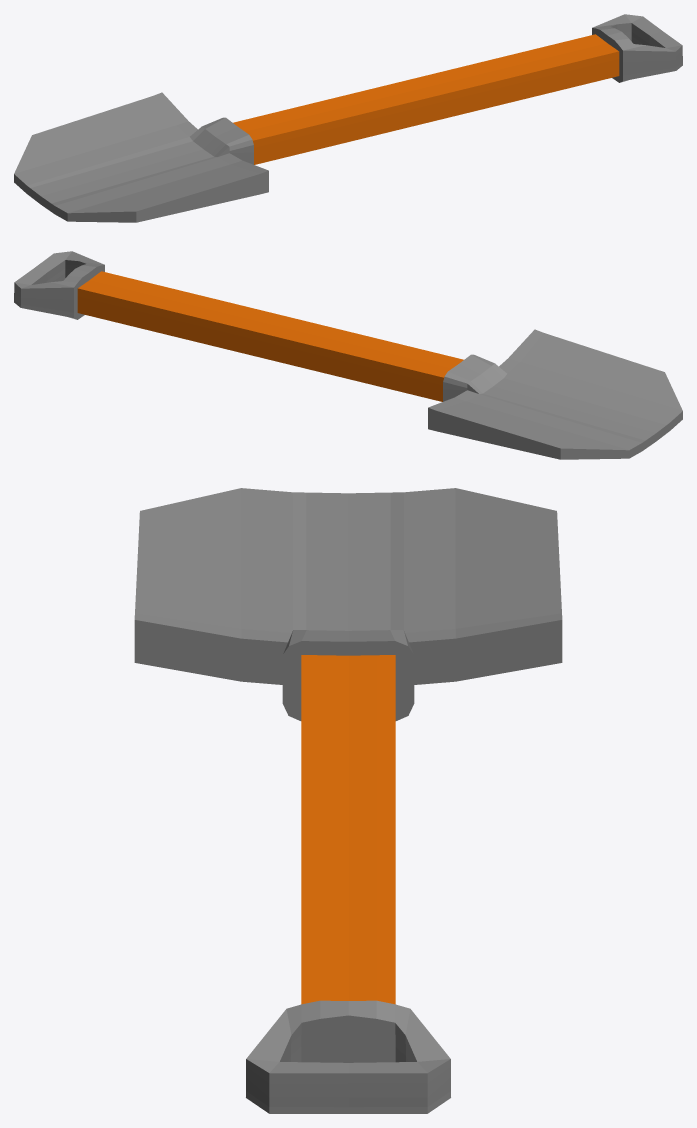
Rendered from Pala.fbx.
3 renders of one model, top to bottom at view 1: azimuth 30°, elevation 25°; view 2: azimuth 150°, elevation 25°; view 3: azimuth 270°, elevation 25°, orthographic. The views are drawn at different scales.
Parts seen in each view (by area): view 1: Cube.002; view 2: Cube.002; view 3: Cube.002.
Boxes of the visible parts, left/top/right/bottom form: Cube.002: left=14, top=14, right=682, bottom=222; Cube.002: left=14, top=251, right=682, bottom=459; Cube.002: left=134, top=488, right=562, bottom=1113.
Bounding box in the file's own units: 10330 × 655 × 3075.
